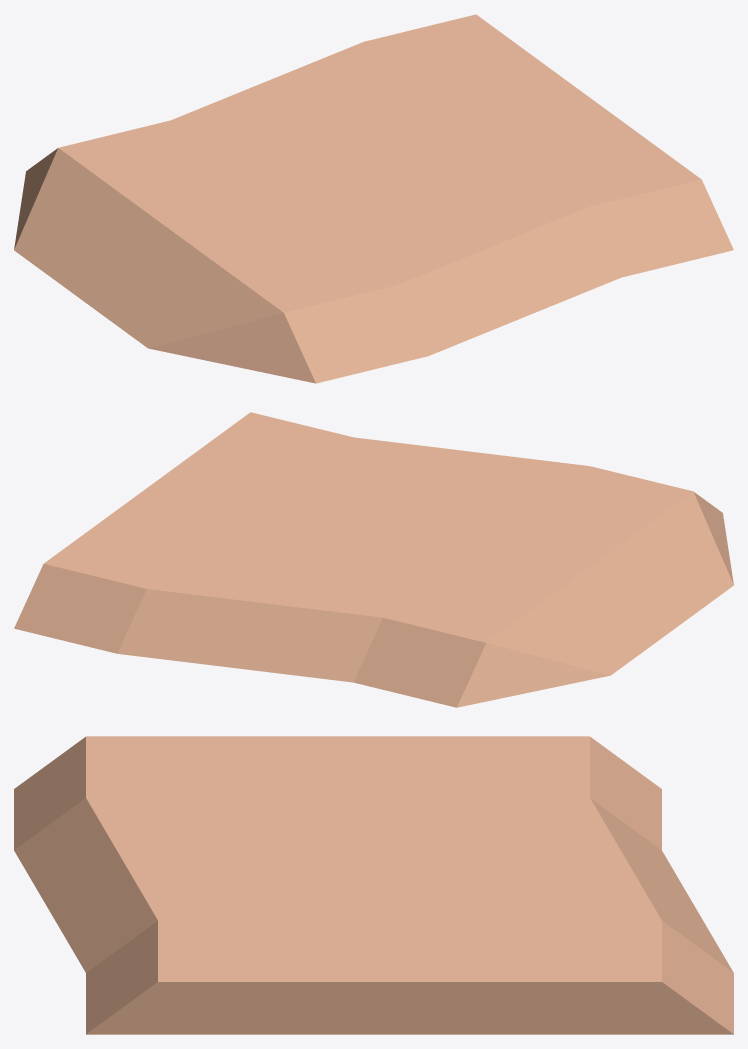
File: crops_dirtRowEnd.glb
3 views of the same model, one above another, from view 1: azimuth 30°, elevation 25°; view 2: azimuth 150°, elevation 25°; view 3: azimuth 270°, elevation 25° (orthographic). The views are drawn at different scales.
Parts seen in each view (by area): view 1: crops_dirtRowEnd; view 2: crops_dirtRowEnd; view 3: crops_dirtRowEnd.
Part boxes in pixels (left/top/right/bottom): crops_dirtRowEnd: left=14, top=14, right=733, bottom=383; crops_dirtRowEnd: left=14, top=412, right=733, bottom=707; crops_dirtRowEnd: left=14, top=736, right=733, bottom=1034.
Size of the model in its own units: 0.6 by 0.05 by 0.62.
